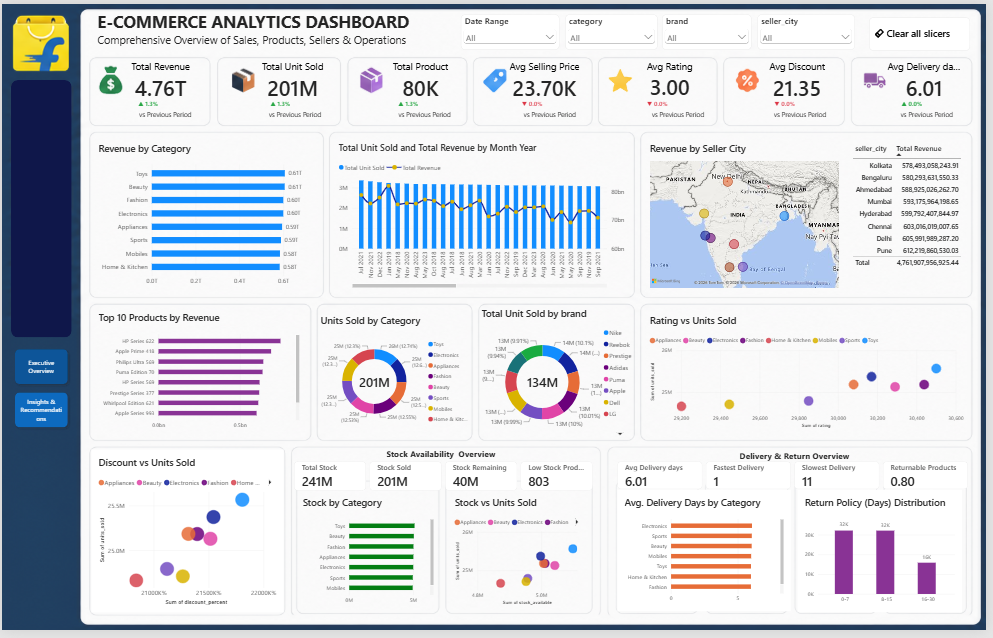

The page's visual inventory and layout, read from the dashboard file:
{"tool":"powerbi","page":{"name":"Executive Overview","canvas":[2200,1400],"ordinal":0},"visuals":[{"type":"cardVisual","fields":{"Data":["flipkard.Total Revenue"]},"box":[201.4,130,254.3,162.9],"z":0},{"type":"cardVisual","fields":{"Data":["flipkard.Total Unit Sold"]},"box":[495,130,252.5,162.5],"z":1000},{"type":"cardVisual","fields":{"Data":["flipkard.Avg Selling Price"]},"box":[1060,130,252.9,162.9],"z":2000},{"type":"cardVisual","fields":{"Data":["flipkard.Avg Discount"]},"box":[1622.5,130,255,162.5],"z":3000},{"type":"cardVisual","fields":{"Data":["flipkard.Total Product"]},"box":[782.9,130,251.4,162.9],"z":4000},{"type":"cardVisual","fields":{"Data":["flipkard.Avg Rating"]},"box":[1340,131.4,252.9,161.4],"z":5000},{"type":"cardVisual","fields":{"Data":["flipkard.Avg Delivery days"]},"box":[1908.3,130,251.7,163.3],"z":6000},{"type":"textbox","box":[212.2,12.2,747.8,90],"z":7000},{"type":"slicer","fields":{"Values":["DateTable.Date"]},"box":[1027.8,23.3,220,78.9],"z":8000},{"type":"slicer","fields":{"Values":["flipkard.category"]},"box":[1259,23,207,79],"z":9000},{"type":"slicer","fields":{"Values":["flipkard.seller_city"]},"box":[1691,23,218,79],"z":10000},{"type":"slicer","fields":{"Values":["flipkard.brand"]},"box":[1476,23,200,79],"z":11000},{"type":"actionButton","box":[1941.4,28.6,225.7,74.3],"z":12000},{"type":"clusteredBarChart","title":"Revenue by Category","fields":{"Category":["flipkard.category"],"Y":["flipkard.Total Revenue"]},"box":[201.2,292.5,507.5,357.5],"z":13000},{"type":"lineClusteredColumnComboChart","fields":{"Category":["DateTable.Month Year"],"Y":["flipkard.Total Unit Sold"],"Y2":["flipkard.Total Revenue"]},"box":[737.1,292.9,674.3,357.1],"z":14000},{"type":"map","title":"Revenue by Seller City","fields":{"Category":["flipkard.seller_city"],"Size":["flipkard.Total Revenue"]},"box":[1432.9,292.9,454.3,357.1],"z":15000},{"type":"tableEx","fields":{"Values":["flipkard.seller_city","flipkard.Total Revenue"]},"box":[1887.1,292.9,280,357.1],"z":16000},{"type":"clusteredBarChart","title":"Top 10 Products by Revenue","fields":{"Category":["flipkard.product_name"],"Y":["flipkard.Total Revenue"]},"box":[201.2,673.8,481.2,297.5],"z":17000},{"type":"donutChart","title":"Units Sold by Category","fields":{"Category":["flipkard.category"],"Y":["flipkard.Total Unit Sold"]},"box":[697.5,680,376.2,286.2],"z":18000},{"type":"donutChart","fields":{"Category":["flipkard.brand"],"Y":["flipkard.Total Unit Sold"]},"box":[1055,662.5,377.5,322.5],"z":19000},{"type":"scatterChart","title":"Rating vs Units Sold","fields":{"Series":["flipkard.category"],"Size":["Sum(flipkard.review_count)"],"X":["Sum(flipkard.rating)"],"Y":["Sum(flipkard.units_sold)"]},"box":[1432.9,681.4,734.3,285.7],"z":20000},{"type":"scatterChart","title":"Discount vs Units Sold","fields":{"Series":["flipkard.category"],"Size":["Sum(flipkard.review_count)"],"X":["Sum(flipkard.discount_percent)"],"Y":["Sum(flipkard.units_sold)"]},"box":[198.6,995.7,430,364.3],"z":21000},{"type":"cardVisual","fields":{"Data":["flipkard.Total Stock","flipkard.Stock Sold","flipkard.Stock Remaining","flipkard.Low Stock Products"]},"box":[652.9,1022.9,671.4,65.7],"z":22000},{"type":"clusteredBarChart","title":"Stock by Category","fields":{"Category":["flipkard.category"],"Y":["flipkard.Stock Remaining"]},"box":[657.5,1085,325,275],"z":23000},{"type":"scatterChart","title":"Stock vs Units Sold","fields":{"Series":["flipkard.category"],"Size":["Sum(flipkard.review_count)"],"X":["Sum(flipkard.stock_available)"],"Y":["Sum(flipkard.units_sold)"]},"box":[996.2,1085,320,273.8],"z":24000},{"type":"cardVisual","fields":{"Data":["flipkard.Avg Delivery days","DateTable.Fastest Delivery","DateTable.Slowest Delivery","DateTable.Returnable Products"]},"box":[1375.7,1022.9,784.3,62.9],"z":25000},{"type":"clusteredBarChart","title":"Avg. Delivery Days by Category","fields":{"Category":["flipkard.category"],"Y":["flipkard.Avg Delivery days"]},"box":[1376,1088,388,272],"z":26000},{"type":"clusteredColumnChart","title":"Return Policy (Days) Distribution","fields":{"Category":["flipkard.Return Policy Group"],"Y":["CountNonNull(flipkard.product_id)"]},"box":[1780,1086,368,274],"z":27000},{"type":"image","box":[20,16.7,135,140],"z":28000},{"type":"textbox","box":[306,236,124.3,20],"z":29000},{"type":"textbox","box":[595,236,124.3,20],"z":30000},{"type":"textbox","box":[887,236,124.3,20],"z":31000},{"type":"textbox","box":[1165,236,124.3,20],"z":32000},{"type":"textbox","box":[1452,236,124.3,20],"z":33000},{"type":"textbox","box":[1728,236,124.3,20],"z":34000},{"type":"textbox","box":[2011,236,124.3,20],"z":35000},{"type":"textbox","box":[858.6,992.9,297.1,25.7],"z":36000},{"type":"textbox","box":[1650,996,297.1,25.7],"z":37000},{"type":"shape","box":[20,170,136,576],"z":38000},{"type":"pageNavigator","box":[18.3,763.3,136.7,96.7],"z":38001},{"type":"pageNavigator","box":[18.3,860,136.7,96.7],"z":38002}]}

Visuals, with their boxes in screenshot pixels (x1, y1, x2, y2), scaled from the page's 2200x1400 canvas onto the 993x638 screenshot:
cardVisual - flipkard.Total Revenue: <bbox>91, 59, 206, 133</bbox>
cardVisual - flipkard.Total Unit Sold: <bbox>223, 59, 337, 133</bbox>
cardVisual - flipkard.Avg Selling Price: <bbox>478, 59, 593, 133</bbox>
cardVisual - flipkard.Avg Discount: <bbox>732, 59, 847, 133</bbox>
cardVisual - flipkard.Total Product: <bbox>353, 59, 467, 133</bbox>
cardVisual - flipkard.Avg Rating: <bbox>605, 60, 719, 133</bbox>
cardVisual - flipkard.Avg Delivery days: <bbox>861, 59, 975, 134</bbox>
textbox: <bbox>96, 6, 433, 47</bbox>
slicer - DateTable.Date: <bbox>464, 11, 563, 47</bbox>
slicer - flipkard.category: <bbox>568, 10, 662, 46</bbox>
slicer - flipkard.seller_city: <bbox>763, 10, 862, 46</bbox>
slicer - flipkard.brand: <bbox>666, 10, 756, 46</bbox>
actionButton: <bbox>876, 13, 978, 47</bbox>
"Revenue by Category" clusteredBarChart: <bbox>91, 133, 320, 296</bbox>
lineClusteredColumnComboChart - DateTable.Month Year x flipkard.Total Unit Sold: <bbox>333, 133, 637, 296</bbox>
"Revenue by Seller City" map: <bbox>647, 133, 852, 296</bbox>
tableEx - flipkard.seller_city x flipkard.Total Revenue: <bbox>852, 133, 978, 296</bbox>
"Top 10 Products by Revenue" clusteredBarChart: <bbox>91, 307, 308, 443</bbox>
"Units Sold by Category" donutChart: <bbox>315, 310, 485, 440</bbox>
donutChart - flipkard.brand x flipkard.Total Unit Sold: <bbox>476, 302, 647, 449</bbox>
"Rating vs Units Sold" scatterChart: <bbox>647, 311, 978, 441</bbox>
"Discount vs Units Sold" scatterChart: <bbox>90, 454, 284, 620</bbox>
cardVisual - flipkard.Total Stock x flipkard.Stock Sold: <bbox>295, 466, 598, 496</bbox>
"Stock by Category" clusteredBarChart: <bbox>297, 494, 443, 620</bbox>
"Stock vs Units Sold" scatterChart: <bbox>450, 494, 594, 619</bbox>
cardVisual - flipkard.Avg Delivery days x DateTable.Fastest Delivery: <bbox>621, 466, 975, 495</bbox>
"Avg. Delivery Days by Category" clusteredBarChart: <bbox>621, 496, 796, 620</bbox>
"Return Policy (Days) Distribution" clusteredColumnChart: <bbox>803, 495, 970, 620</bbox>
image: <bbox>9, 8, 70, 71</bbox>
textbox: <bbox>138, 108, 194, 117</bbox>
textbox: <bbox>269, 108, 325, 117</bbox>
textbox: <bbox>400, 108, 456, 117</bbox>
textbox: <bbox>526, 108, 582, 117</bbox>
textbox: <bbox>655, 108, 711, 117</bbox>
textbox: <bbox>780, 108, 836, 117</bbox>
textbox: <bbox>908, 108, 964, 117</bbox>
textbox: <bbox>388, 452, 522, 464</bbox>
textbox: <bbox>745, 454, 879, 466</bbox>
shape: <bbox>9, 77, 70, 340</bbox>
pageNavigator: <bbox>8, 348, 70, 392</bbox>
pageNavigator: <bbox>8, 392, 70, 436</bbox>
